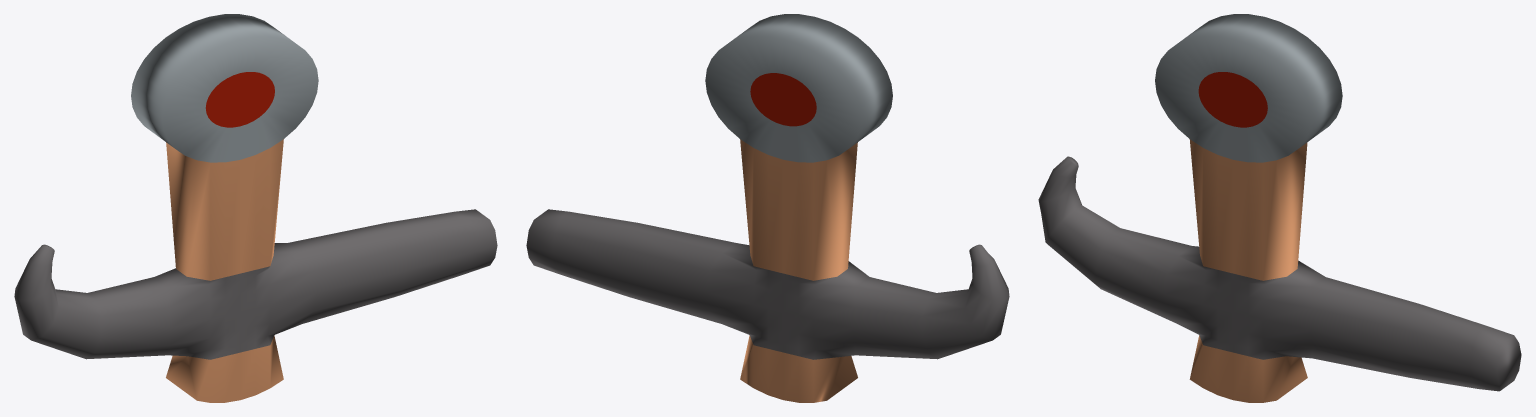
The model's file is cekic1.fbx.
3 views of the same model, side by side, from view 1: azimuth 30°, elevation 25°; view 2: azimuth 150°, elevation 25°; view 3: azimuth 330°, elevation 25° (orthographic).
Visible parts, largest first — view 1: Cylinder; view 2: Cylinder; view 3: Cylinder.
Boxes of the visible parts, x1,y1,x2,y2 form: Cylinder: [14, 14, 497, 402]; Cylinder: [526, 14, 1009, 402]; Cylinder: [1038, 14, 1521, 402].
Bounding box in the file's own units: 418 × 308 × 49.26.
